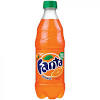fanta_bottle: (35, 1, 66, 100)
